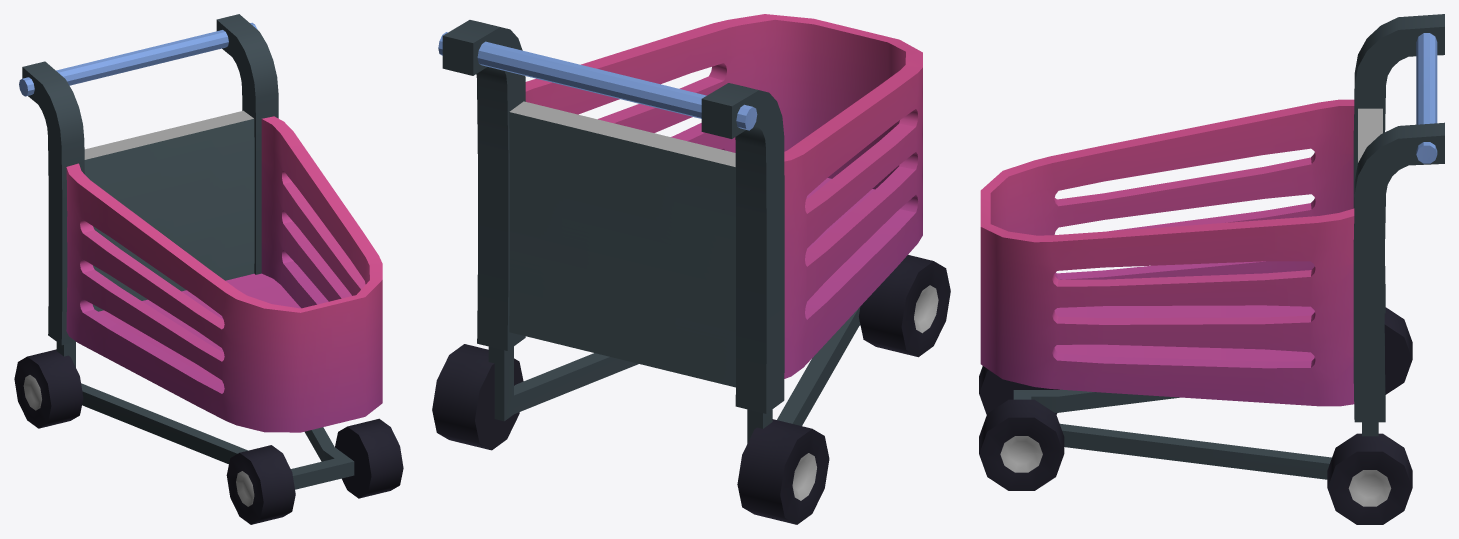
Rendered from ShopCart_02.fbx.
The picture shows the model from 3 angles, left to right: view 1: azimuth 30°, elevation 25°; view 2: azimuth 150°, elevation 25°; view 3: azimuth 270°, elevation 25°; orthographic projection. The views are drawn at different scales.
Parts seen in each view (by area): view 1: ShopCart_02; view 2: ShopCart_02; view 3: ShopCart_02.
Part boxes in pixels (left/top/right/bottom): ShopCart_02: left=14, top=14, right=403, bottom=524; ShopCart_02: left=432, top=14, right=950, bottom=524; ShopCart_02: left=979, top=14, right=1444, bottom=524.
Size of the model in its own units: 38.76 by 46.58 by 52.14.
